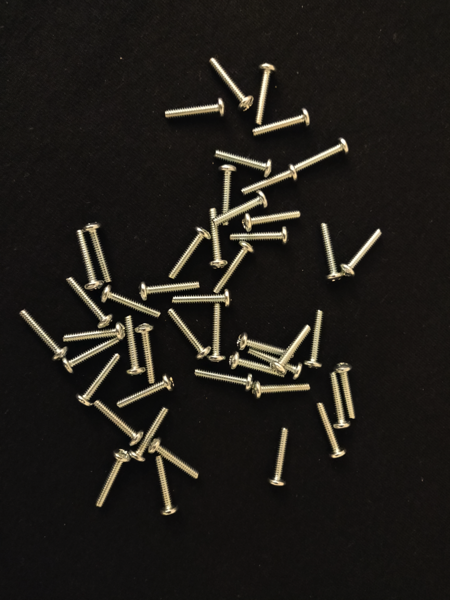longscrew: (15, 307, 68, 362), (91, 396, 145, 448), (76, 352, 123, 408), (207, 56, 254, 112), (65, 276, 114, 329), (167, 224, 212, 281), (167, 305, 212, 360), (212, 239, 256, 295), (129, 405, 172, 462), (93, 447, 130, 510), (147, 437, 201, 480), (61, 336, 122, 374), (99, 283, 163, 319), (340, 226, 384, 278), (270, 322, 312, 375), (115, 373, 174, 410), (292, 136, 351, 173), (212, 189, 269, 227), (313, 399, 347, 462), (73, 227, 104, 295), (82, 221, 115, 284), (245, 345, 302, 380), (251, 106, 313, 137), (318, 221, 347, 285), (241, 163, 298, 195), (230, 350, 288, 381), (212, 148, 274, 176), (266, 424, 293, 488), (192, 365, 255, 392), (163, 95, 226, 122), (122, 314, 148, 376), (327, 368, 352, 432), (137, 279, 203, 303), (153, 452, 177, 518), (254, 61, 278, 127), (333, 361, 358, 422), (62, 321, 127, 344), (241, 208, 303, 232), (235, 330, 290, 357), (303, 308, 326, 370), (134, 322, 157, 384), (207, 207, 229, 271), (229, 224, 290, 247), (216, 162, 237, 228), (251, 380, 312, 402), (204, 302, 226, 363), (171, 287, 233, 307)
